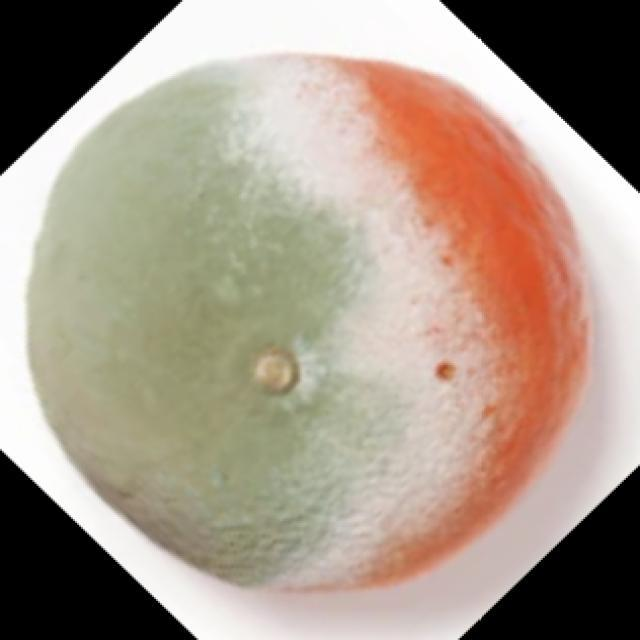sangat-busuk: (27, 55, 586, 588)
